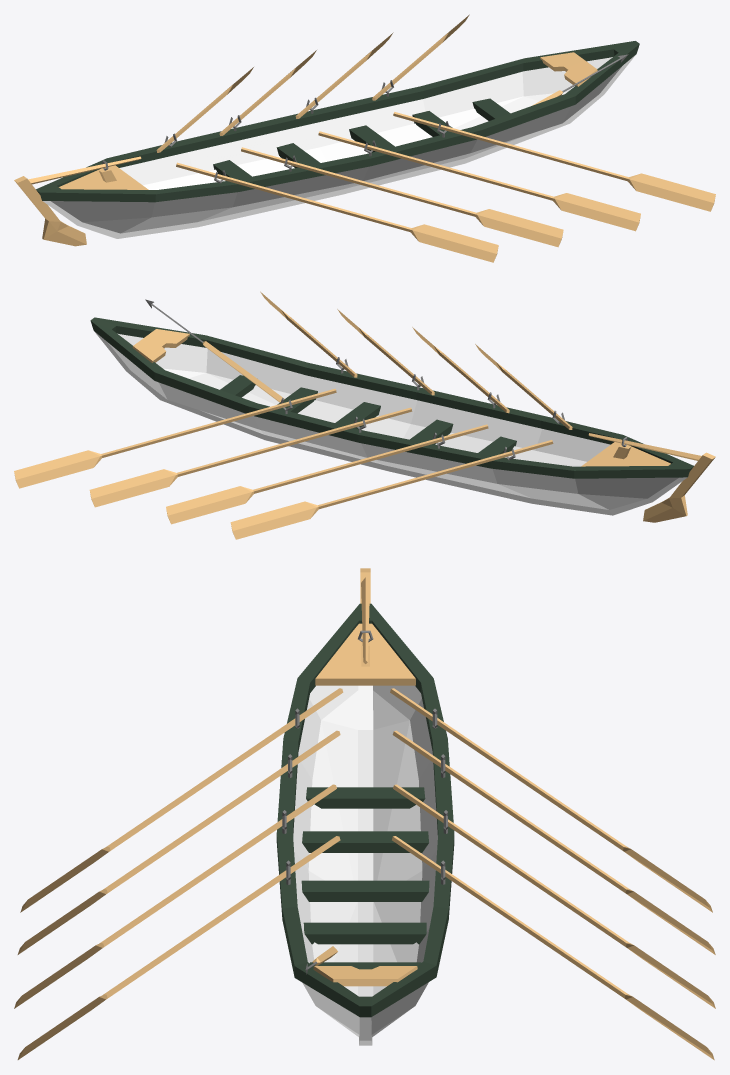
Rendered from Boat.fbx.
The picture shows the model from 3 angles, top to bottom: view 1: azimuth 30°, elevation 25°; view 2: azimuth 150°, elevation 25°; view 3: azimuth 270°, elevation 25°; orthographic projection. The views are drawn at different scales.
Visible parts, largest first — view 1: Cube, Cube.009, Cube.006, Cube.007, Cube.008, Cylinder, Cube.001, Cube.010, Cube.013, Cube.005, Cube.004, Cube.002 (+5 smaller); view 2: Cube, Cube.003, Cube.002, Cube.005, Cube.004, Cylinder, Cube.001, Cube.010, Cube.016, Cube.013, Cube.006, Cube.008 (+6 smaller); view 3: Cube, Cube.001, Cube.013, Cube.012, Cube.006, Cube.007, Cube.009, Cube.005, Cube.003, Cube.004, Cube.008, Cube.002 (+4 smaller).
Boxes of the visible parts, bbox=[...] form: Cube: bbox=[36, 41, 639, 238]; Cube.009: bbox=[176, 162, 498, 262]; Cube.006: bbox=[393, 112, 715, 211]; Cube.007: bbox=[318, 131, 640, 231]; Cube.008: bbox=[241, 147, 563, 247]; Cylinder: bbox=[14, 156, 141, 246]; Cube.001: bbox=[59, 160, 148, 189]; Cube.010: bbox=[540, 52, 597, 86]; Cube.013: bbox=[349, 125, 394, 152]; Cube.005: bbox=[372, 14, 469, 100]; Cube.004: bbox=[295, 32, 393, 118]; Cube.002: bbox=[156, 67, 253, 152]; Cube: bbox=[90, 317, 693, 515]; Cube.003: bbox=[166, 424, 488, 524]; Cube.002: bbox=[230, 440, 553, 539]; Cube.005: bbox=[14, 388, 336, 488]; Cube.004: bbox=[89, 407, 412, 507]; Cylinder: bbox=[588, 433, 715, 522]; Cube.001: bbox=[581, 436, 670, 466]; Cube.010: bbox=[132, 329, 189, 362]; Cube.016: bbox=[145, 299, 284, 402]; Cube.013: bbox=[335, 402, 380, 429]; Cube.006: bbox=[260, 291, 357, 377]; Cube.008: bbox=[412, 327, 509, 413]; Cube: bbox=[276, 603, 454, 1045]; Cube.001: bbox=[315, 623, 415, 685]; Cube.013: bbox=[301, 880, 429, 901]; Cube.012: bbox=[303, 922, 426, 944]; Cube.006: bbox=[17, 836, 340, 1059]; Cube.007: bbox=[14, 784, 336, 1008]; Cube.009: bbox=[20, 688, 343, 912]; Cube.005: bbox=[392, 836, 714, 1060]; Cube.003: bbox=[392, 730, 715, 954]; Cube.004: bbox=[393, 784, 715, 1008]; Cube.008: bbox=[17, 730, 340, 954]; Cube.002: bbox=[390, 688, 712, 912].
Size of the model in its own units: 568 by 80.57 by 400.
